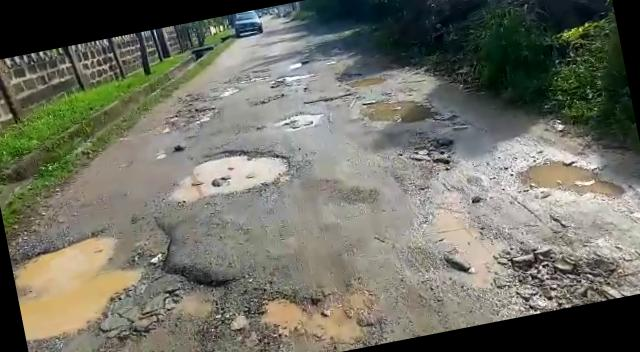pothole: (10, 202, 245, 352), (220, 271, 387, 352), (490, 231, 634, 319), (165, 137, 305, 208), (508, 139, 634, 214), (358, 90, 442, 134), (391, 132, 457, 182), (154, 103, 222, 137), (301, 87, 366, 108), (273, 108, 322, 134)
